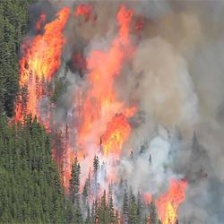fire: (12, 2, 187, 221)
smoke: (142, 5, 224, 177)
